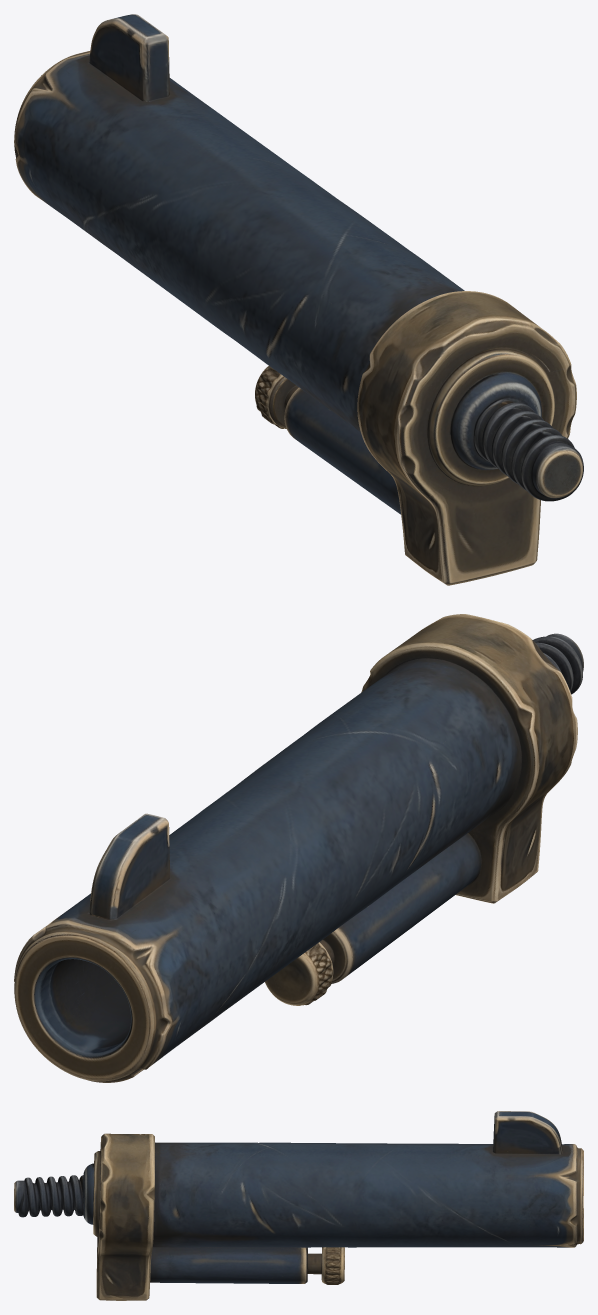
Rendered from rv_barrel.glb.
The picture shows the model from 3 angles, top to bottom: view 1: azimuth 30°, elevation 25°; view 2: azimuth 150°, elevation 25°; view 3: azimuth 270°, elevation 25°; orthographic projection. The views are drawn at different scales.
Visible parts, largest first — view 1: Mesh_0; view 2: Mesh_0; view 3: Mesh_0.
Boxes of the visible parts, bbox=[...] form: Mesh_0: bbox=[14, 14, 583, 585]; Mesh_0: bbox=[14, 614, 583, 1082]; Mesh_0: bbox=[14, 1111, 583, 1300].
Size of the model in its own units: 0.0365 by 0.0577 by 0.17.
Materials: 1 (1 with a texture image).
